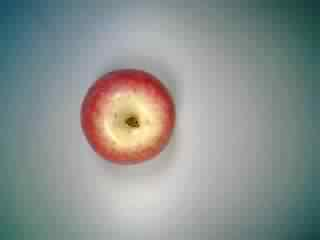apple: (72, 63, 178, 167)
